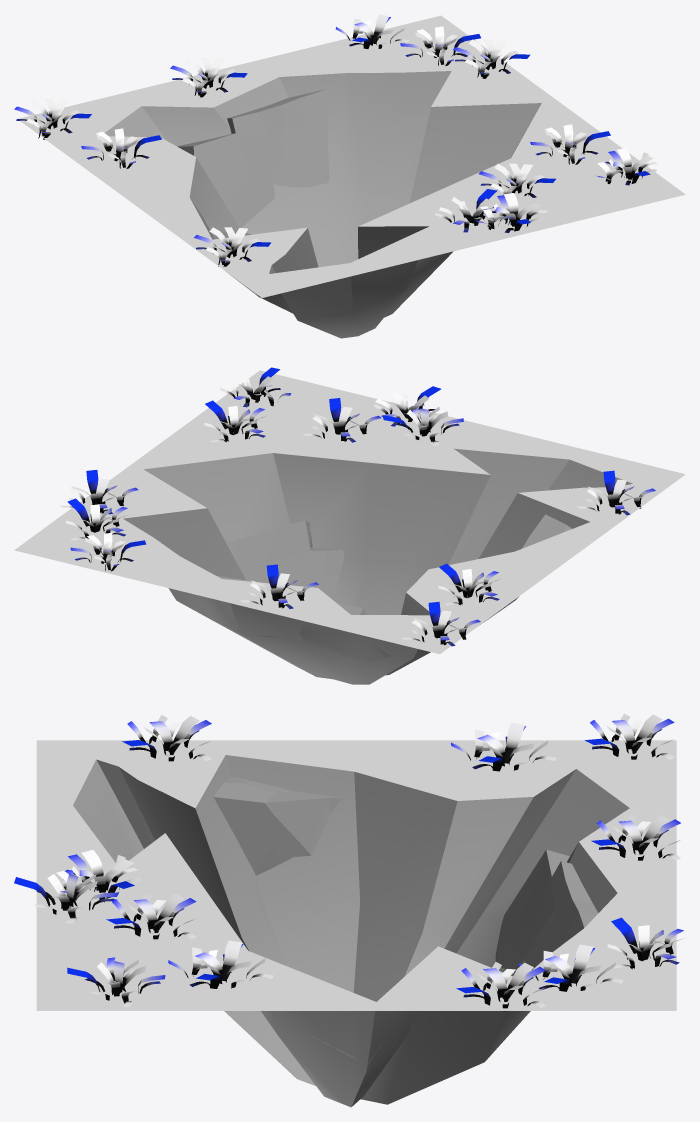
The model's file is TILE_RIFT.fbx.
3 views of the same model, one above another, from view 1: azimuth 30°, elevation 25°; view 2: azimuth 150°, elevation 25°; view 3: azimuth 270°, elevation 25° (orthographic). The views are drawn at different scales.
Parts seen in each view (by area): view 1: RIFT TILE FLOOR, GRASS.015, RIFT TILE INVERTED NORMALS; view 2: RIFT TILE FLOOR, RIFT TILE INVERTED NORMALS, GRASS.015; view 3: RIFT TILE FLOOR, RIFT TILE INVERTED NORMALS, GRASS.015.
Part boxes in pixels (x1,y1,x2,y2): RIFT TILE FLOOR: (18, 15, 685, 338); GRASS.015: (14, 14, 657, 266); RIFT TILE INVERTED NORMALS: (105, 71, 541, 337); RIFT TILE FLOOR: (14, 370, 685, 684); RIFT TILE INVERTED NORMALS: (124, 449, 621, 684); GRASS.015: (60, 367, 655, 646); RIFT TILE FLOOR: (36, 740, 676, 1107); RIFT TILE INVERTED NORMALS: (74, 755, 623, 1106); GRASS.015: (14, 713, 684, 1011).
Size of the model in its own units: 210 by 84.99 by 210.
